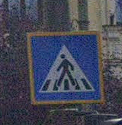trecere_pietoni: (29, 32, 104, 102)
